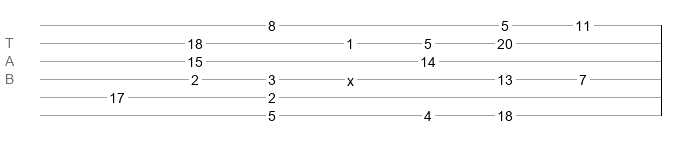1: (346, 36, 354, 46)
11: (575, 18, 591, 28)
13: (497, 72, 513, 82)
14: (420, 54, 436, 64)
15: (187, 54, 203, 64)
17: (109, 90, 125, 100)
18: (187, 36, 203, 46), (497, 108, 513, 118)
2: (191, 72, 199, 82), (268, 90, 276, 100)
20: (497, 36, 513, 46)
3: (268, 72, 276, 82)
4: (424, 108, 432, 118)
5: (268, 108, 276, 118), (424, 36, 432, 46), (501, 18, 509, 28)
7: (579, 72, 587, 82)
8: (268, 18, 276, 28)
x: (347, 73, 354, 81)
